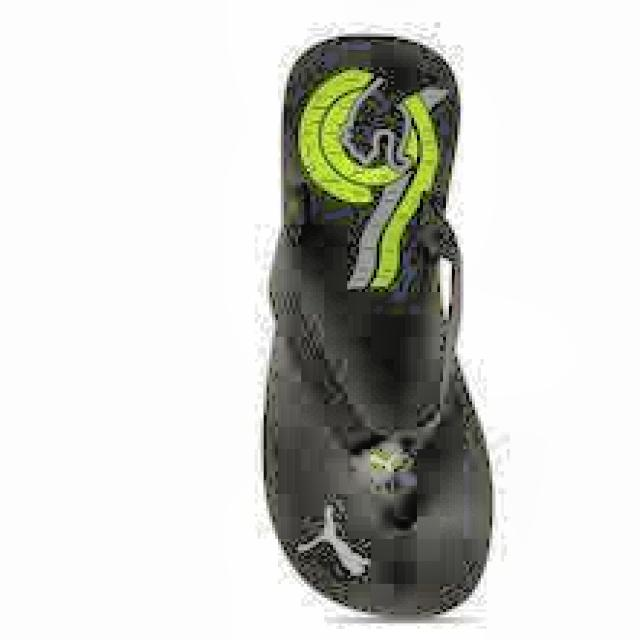shoes: (257, 28, 500, 627)
